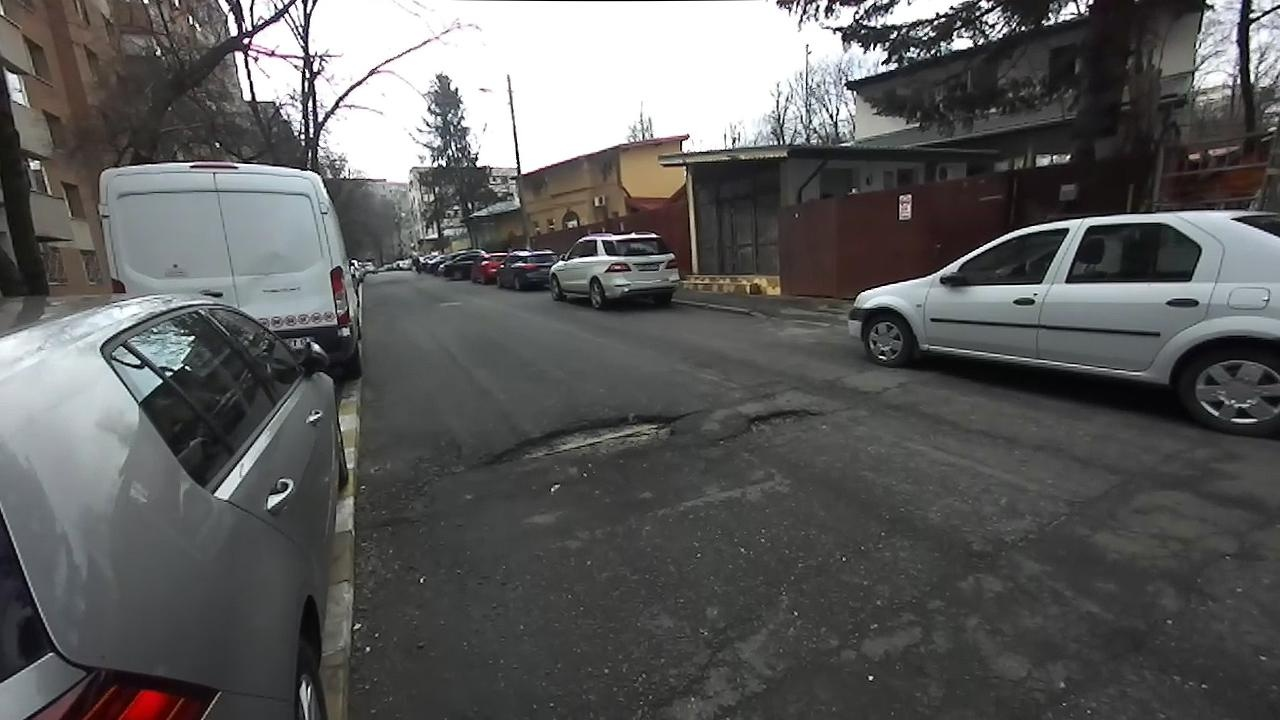pothole: (469, 402, 701, 475), (711, 402, 831, 445)
